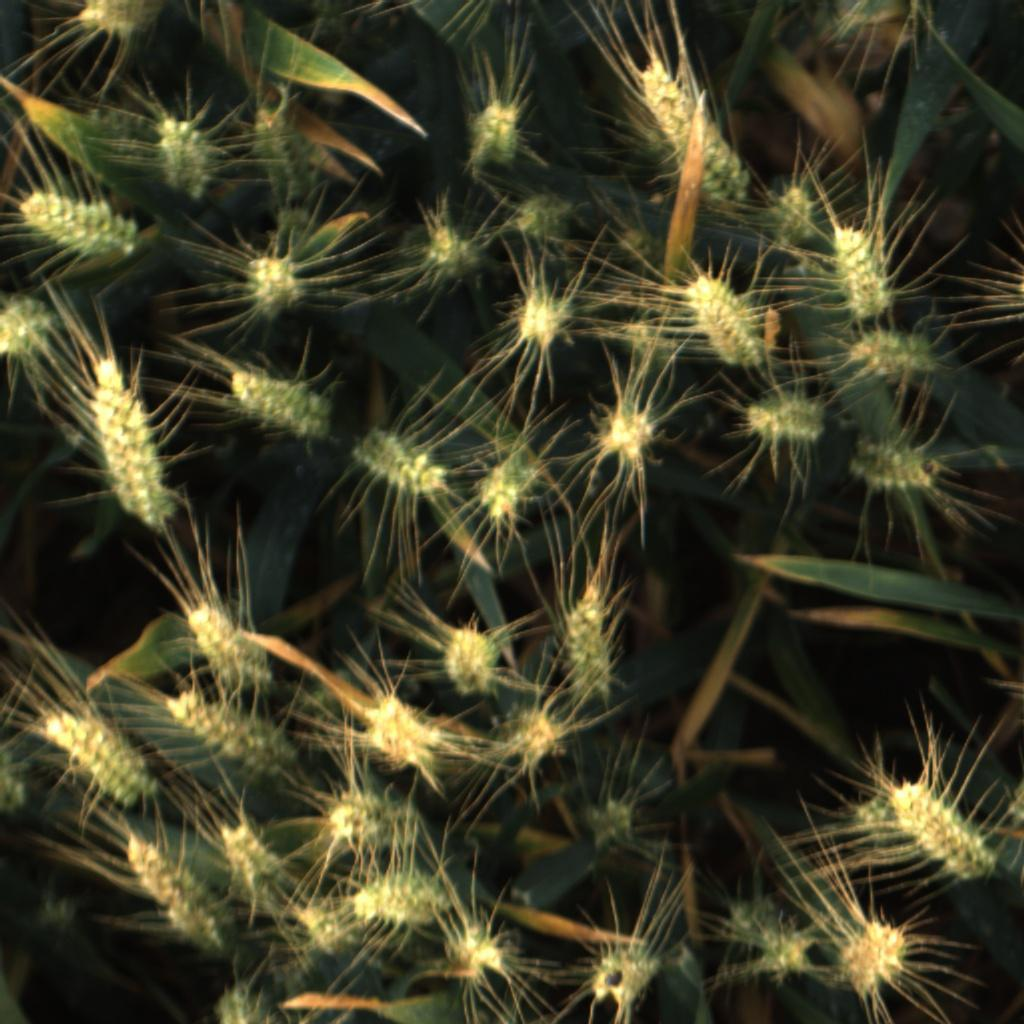0-0: (638, 55, 752, 215), (86, 351, 178, 535), (119, 832, 239, 958), (33, 703, 161, 809), (164, 687, 301, 778), (891, 774, 997, 884), (19, 182, 140, 261), (821, 212, 901, 324), (227, 360, 337, 441), (685, 271, 773, 369), (184, 599, 282, 685), (248, 105, 329, 207), (347, 421, 452, 498), (317, 788, 422, 858), (835, 917, 917, 1006), (360, 693, 449, 775), (351, 862, 457, 929), (559, 584, 620, 699), (708, 883, 799, 959), (840, 319, 937, 382), (152, 112, 215, 205), (584, 942, 666, 1012), (439, 620, 506, 699), (217, 820, 290, 891), (743, 920, 819, 988), (843, 436, 940, 489), (734, 391, 831, 444), (465, 94, 533, 168), (573, 792, 649, 858), (472, 451, 539, 523), (439, 921, 514, 983), (241, 249, 305, 321), (299, 898, 372, 961), (769, 176, 825, 253), (507, 188, 580, 246), (0, 293, 56, 366), (617, 314, 676, 382), (423, 220, 485, 284), (615, 225, 675, 288), (849, 790, 912, 847), (506, 707, 569, 763), (600, 404, 658, 463), (513, 292, 575, 347), (77, 0, 150, 42), (267, 197, 323, 250), (207, 983, 278, 1024), (36, 892, 77, 929), (0, 769, 32, 816), (1004, 772, 1024, 824)
